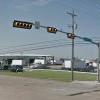Traffic light: (8, 13, 81, 49)
